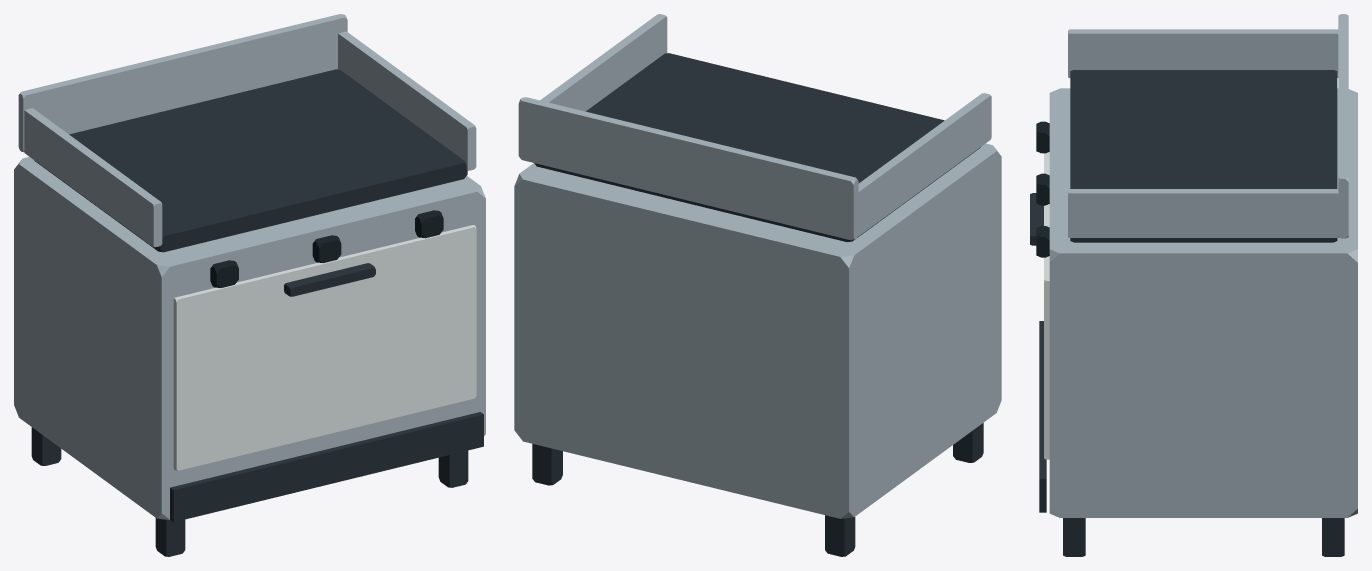
Rendered from FlatTopGrill.glb.
3 renders of one model, left to right at view 1: azimuth 30°, elevation 25°; view 2: azimuth 150°, elevation 25°; view 3: azimuth 270°, elevation 25°, orthographic. The views are drawn at different scales.
Parts seen in each view (by area): view 1: FlatTopGrill; view 2: FlatTopGrill; view 3: FlatTopGrill.
Boxes of the visible parts, x1,y1,x2,y2 form: FlatTopGrill: (14,14,485,556); FlatTopGrill: (514,14,1001,556); FlatTopGrill: (1030,14,1357,556).
Bounding box in the file's own units: 0.95 × 1.03 × 0.7975.
